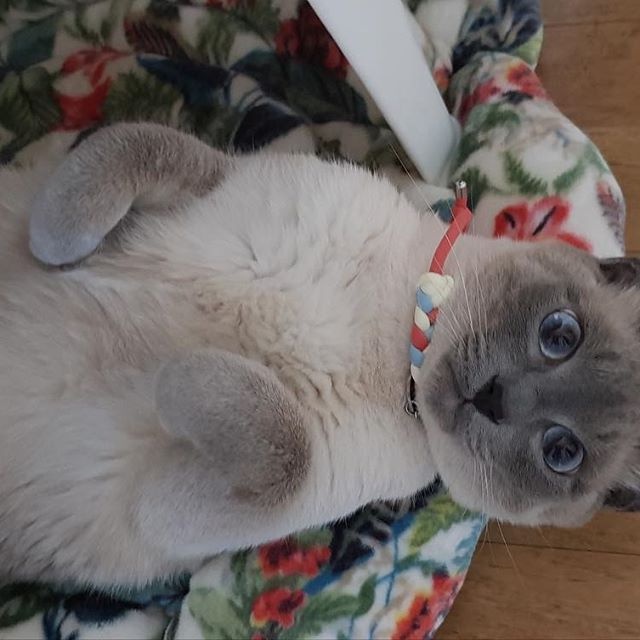cat: (362, 247, 640, 525)
